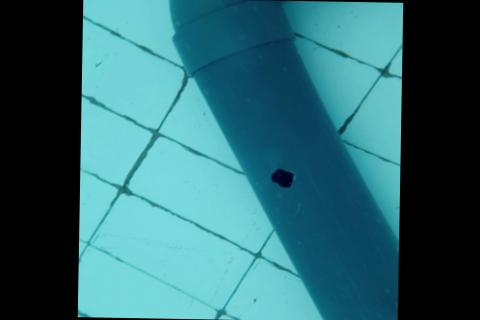kebocoran: (268, 167, 298, 188)
